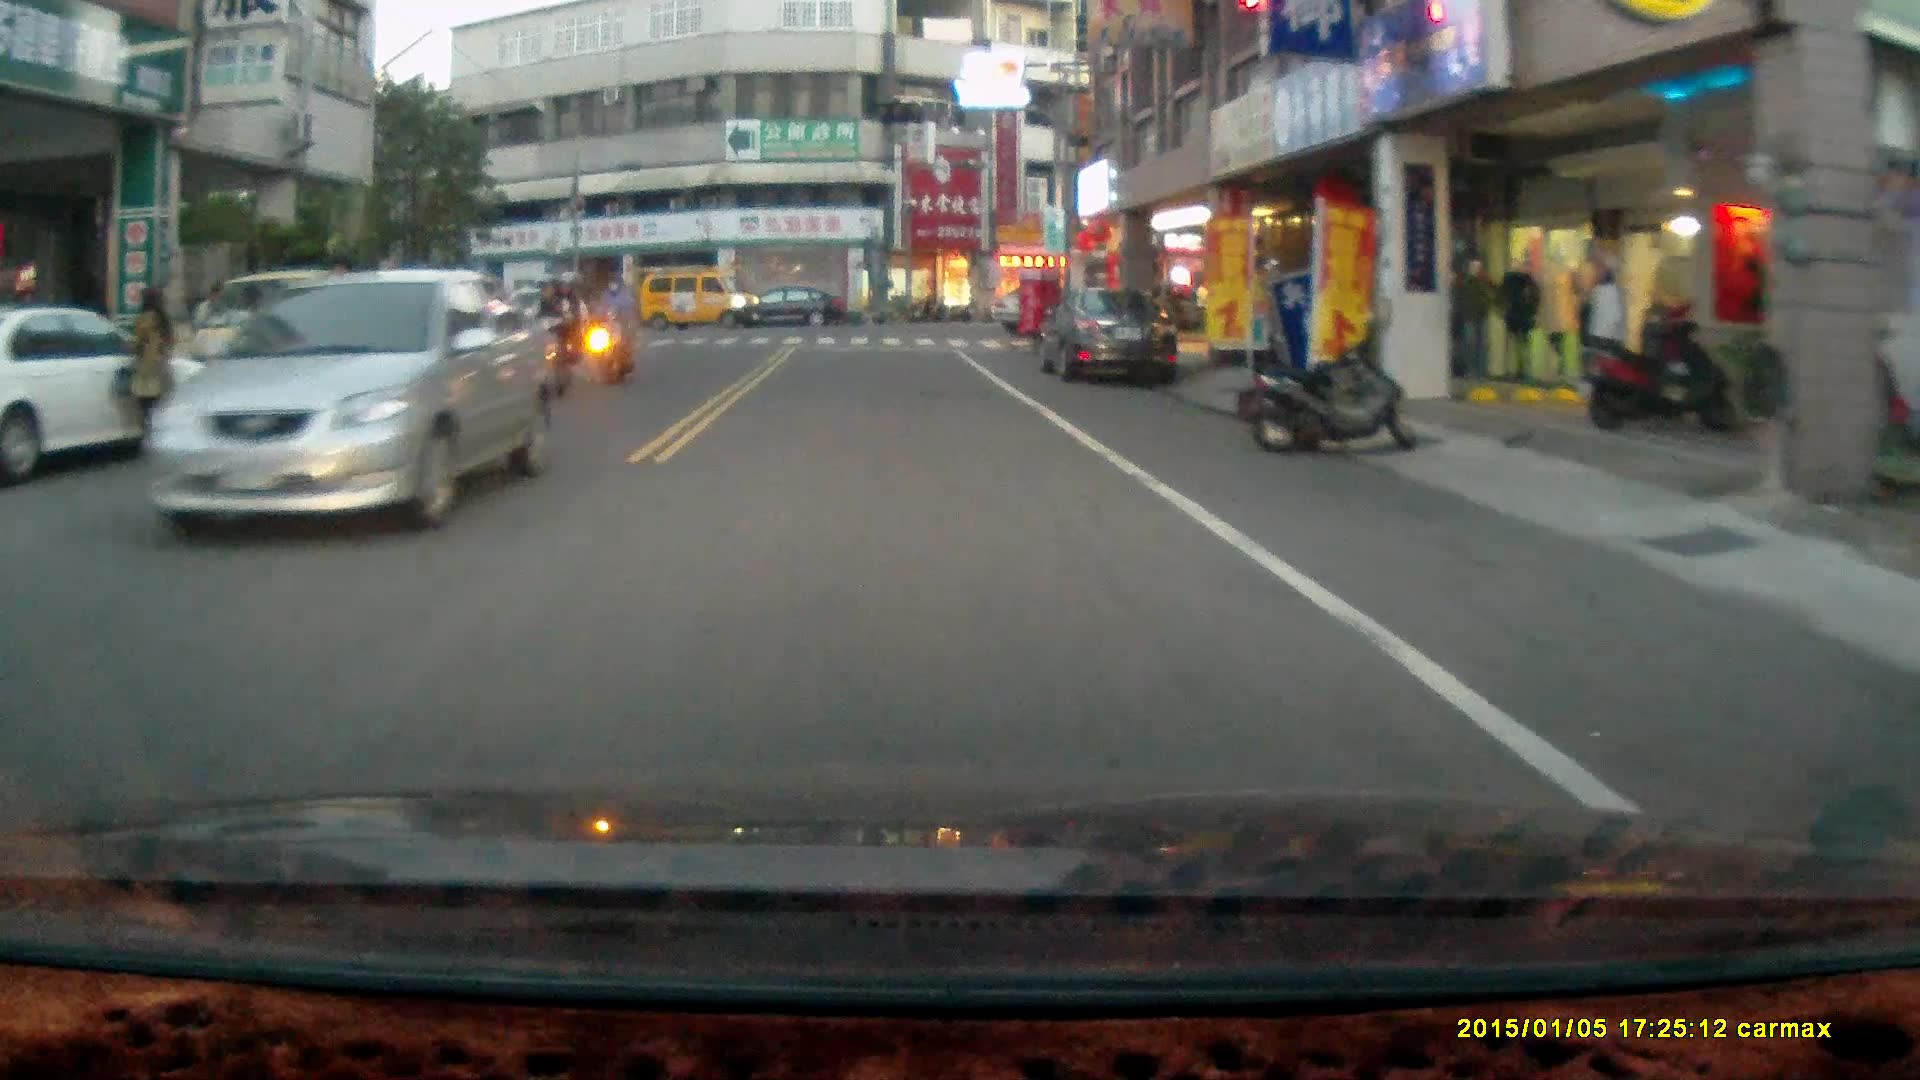pedestrian: (112, 284, 180, 454)
rider: (523, 269, 584, 406), (592, 272, 637, 388)
vehicle: (202, 273, 545, 561), (1, 306, 246, 488), (1040, 284, 1186, 387), (635, 267, 762, 338), (731, 288, 850, 333)
